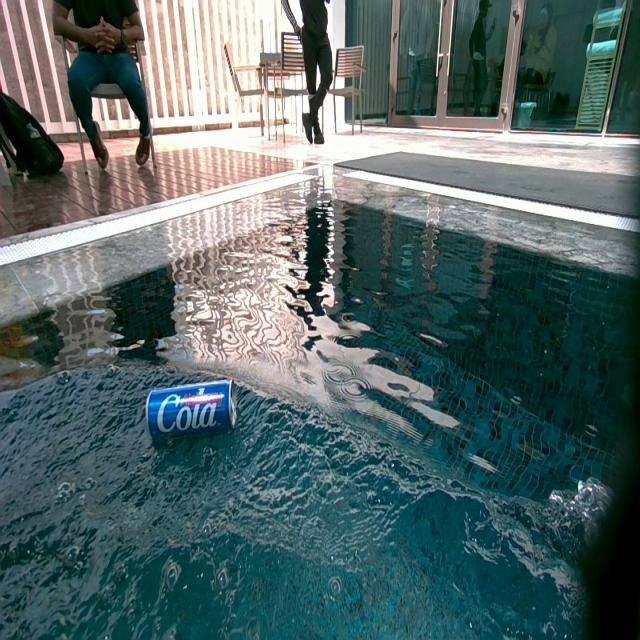Cans: (146, 380, 238, 440)
